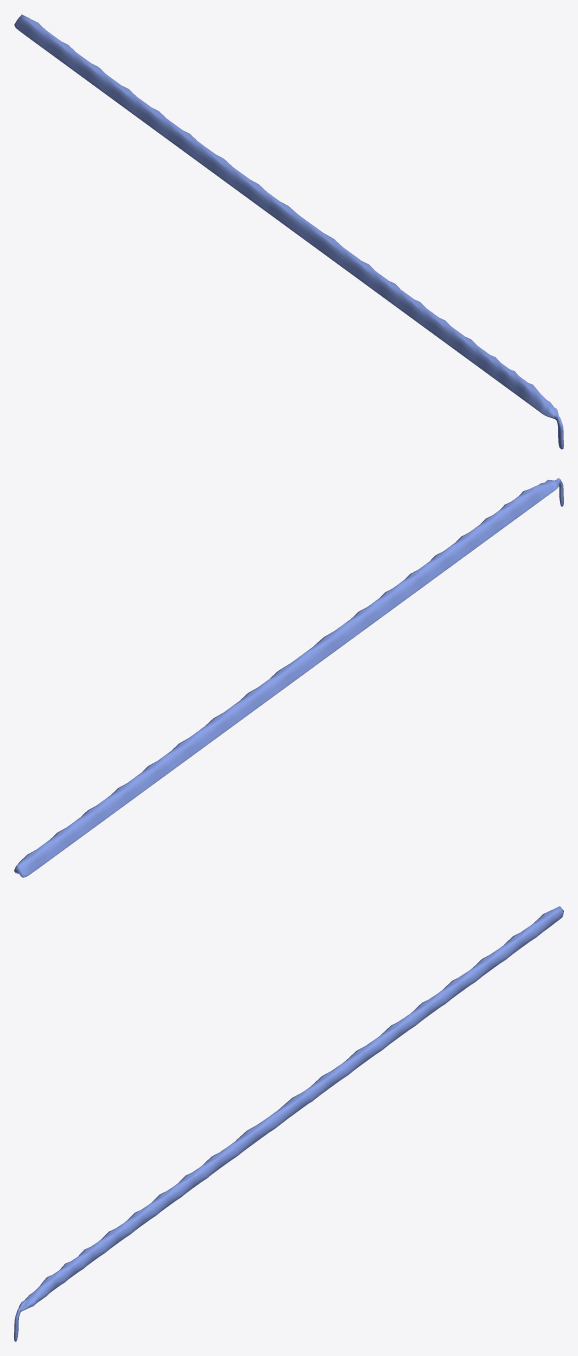
File: rio_v9.2.fbx
3 renders of one model, top to bottom at view 1: azimuth 30°, elevation 25°; view 2: azimuth 150°, elevation 25°; view 3: azimuth 330°, elevation 25°, orthographic.
Parts seen in each view (by area): view 1: Cylinder.001; view 2: Cylinder.001; view 3: Cylinder.001.
Part boxes in pixels (x1,y1,x2,y2): Cylinder.001: (14, 14, 563, 449); Cylinder.001: (14, 478, 563, 877); Cylinder.001: (14, 906, 563, 1341).
Size of the model in its own units: 1133 by 3548 by 86477.
